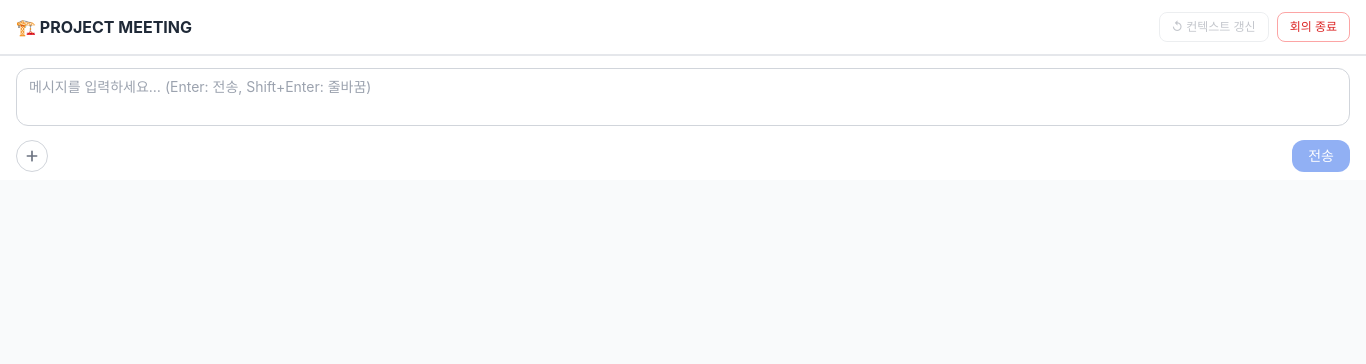
Test case: MeetingApp › 완료 화면에 채팅으로 돌아가기 버튼이 있어야 한다
The image size is (1366, 364).
Click the button "회의 종료" at coordinates (1313, 27), box [1277,12,1350,42]
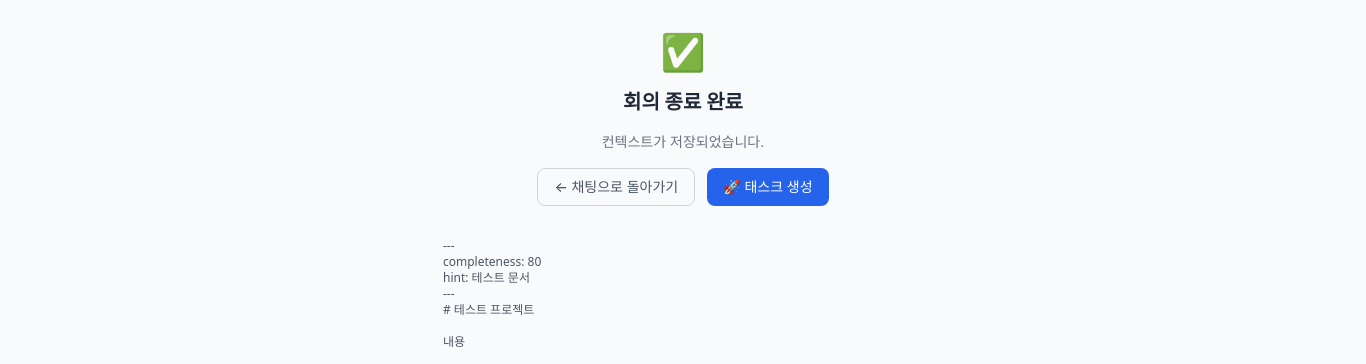
Now the button "← 채팅으로 돌아가기" is shown, box [537,168,695,206]
